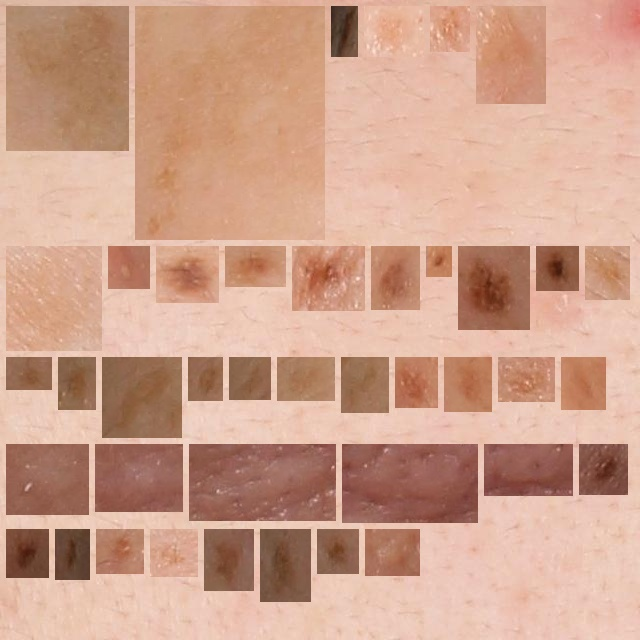hypertrophic_scar: (197, 452, 328, 513), (350, 452, 470, 515), (103, 452, 175, 504), (14, 452, 81, 507), (492, 452, 565, 488), (373, 537, 412, 568)
melasma: (143, 14, 317, 232), (14, 14, 121, 143), (14, 254, 94, 343), (484, 14, 538, 96), (110, 365, 174, 430), (268, 537, 303, 594), (212, 537, 246, 583), (372, 14, 416, 49), (349, 365, 381, 405), (452, 365, 484, 404), (506, 365, 547, 394), (285, 365, 327, 393), (593, 254, 622, 292), (569, 365, 598, 402), (158, 537, 190, 569), (403, 365, 430, 400), (104, 537, 136, 566), (66, 365, 88, 402), (325, 537, 351, 566), (438, 14, 462, 44), (237, 365, 263, 392), (196, 365, 215, 393), (14, 365, 44, 382)
nevus: (466, 254, 522, 322), (300, 254, 357, 303), (164, 254, 211, 295), (379, 254, 412, 302), (587, 452, 620, 487), (233, 254, 278, 279), (14, 537, 41, 570), (544, 254, 571, 283), (434, 254, 444, 269)
pustule: (116, 254, 142, 281)
